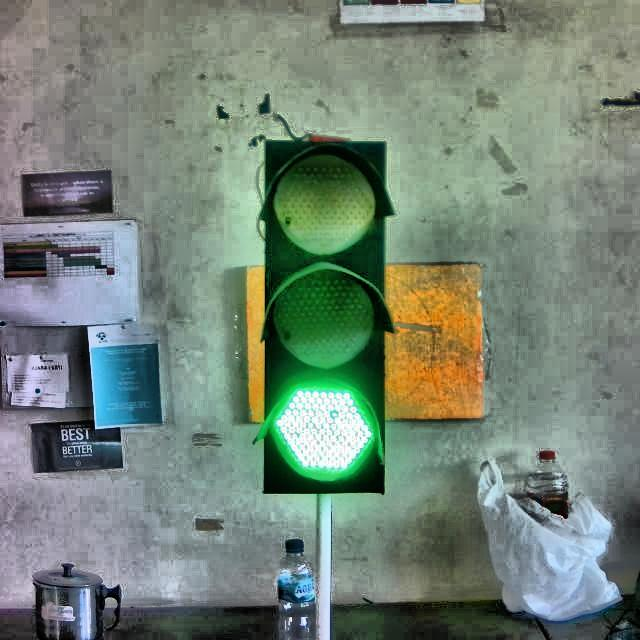green: (256, 136, 399, 495)
